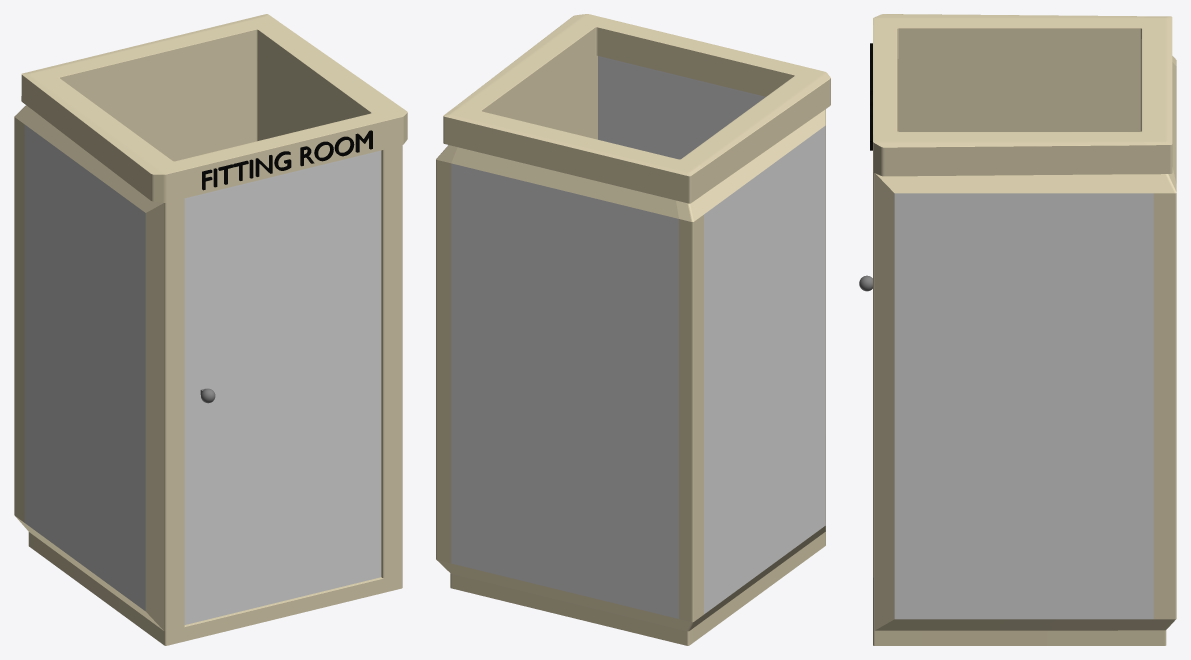
File: 탈의실_M.fbx
3 views of the same model, side by side, from view 1: azimuth 30°, elevation 25°; view 2: azimuth 150°, elevation 25°; view 3: azimuth 270°, elevation 25° (orthographic). The views are drawn at different scales.
Parts seen in each view (by area): view 1: Cube; view 2: Cube; view 3: Cube.
Part boxes in pixels (x1,y1,x2,y2): Cube: [14, 14, 407, 645]; Cube: [436, 14, 830, 645]; Cube: [859, 14, 1176, 645].
Size of the model in its own units: 758 by 1331 by 760.
